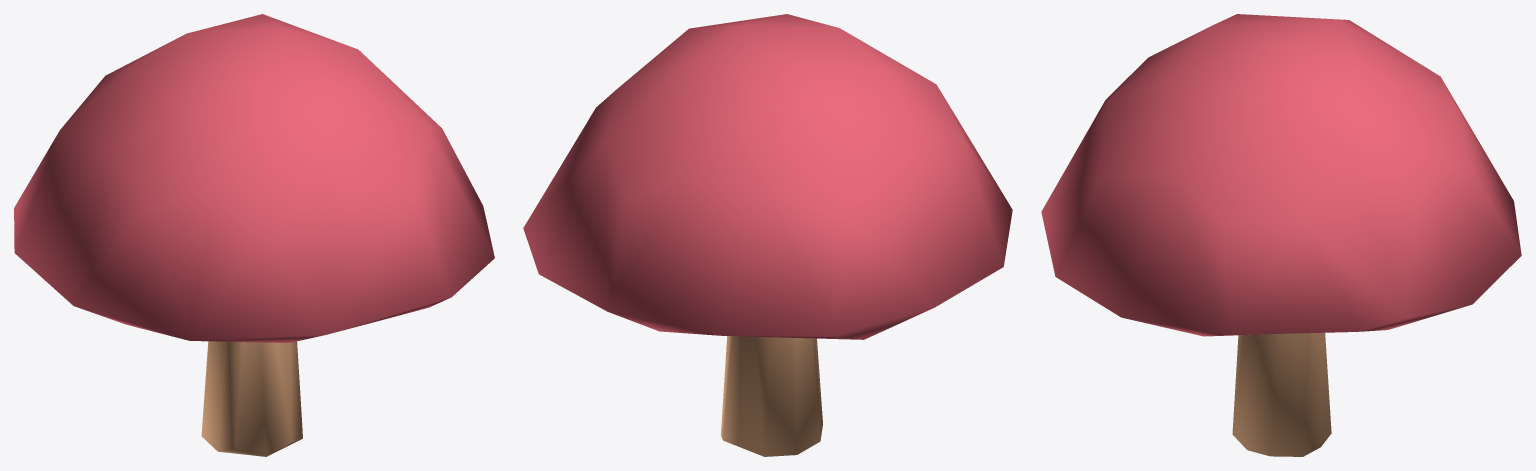
Rendered from Mushroom_2.fbx.
3 views of the same model, side by side, from view 1: azimuth 30°, elevation 25°; view 2: azimuth 150°, elevation 25°; view 3: azimuth 270°, elevation 25° (orthographic).
Visible parts, largest first — view 1: Mushroom_2; view 2: Mushroom_2; view 3: Mushroom_2.
Boxes of the visible parts, x1=… form: Mushroom_2: x1=14, y1=14, x2=494, y2=456; Mushroom_2: x1=523, y1=14, x2=1012, y2=456; Mushroom_2: x1=1041, y1=14, x2=1521, y2=456.
Bounding box in the file's own units: 49.56 × 46.38 × 49.56.
